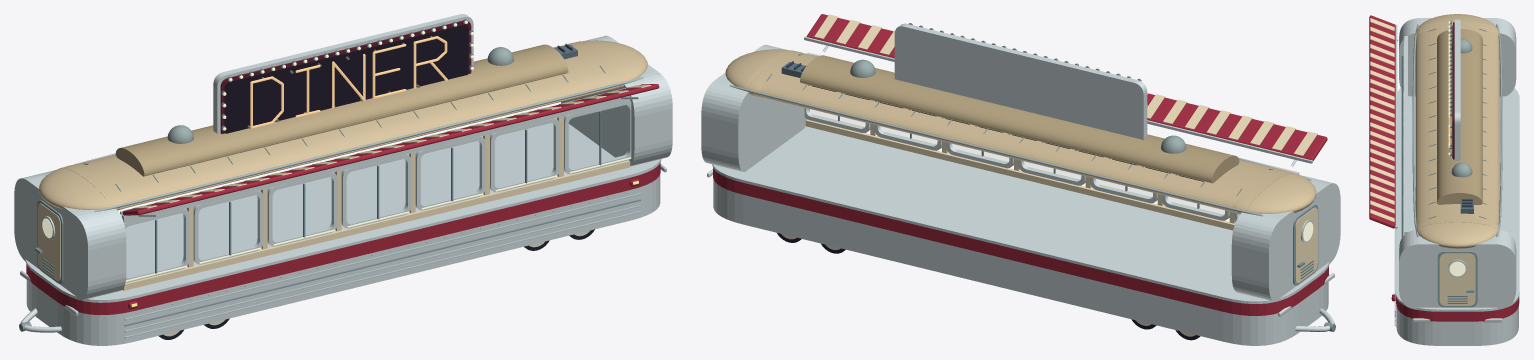
File: car-stage.glb
3 views of the same model, side by side, from view 1: azimuth 30°, elevation 25°; view 2: azimuth 150°, elevation 25°; view 3: azimuth 270°, elevation 25° (orthographic). The views are drawn at different scales.
Visible parts, largest first — view 1: car-body; view 2: car-body; view 3: car-body.
Boxes of the visible parts, bbox=[...] form: car-body: bbox=[14, 14, 672, 345]; car-body: bbox=[701, 14, 1340, 345]; car-body: bbox=[1369, 14, 1519, 345].
Size of the model in its own units: 12.99 by 4.41 by 3.44.
